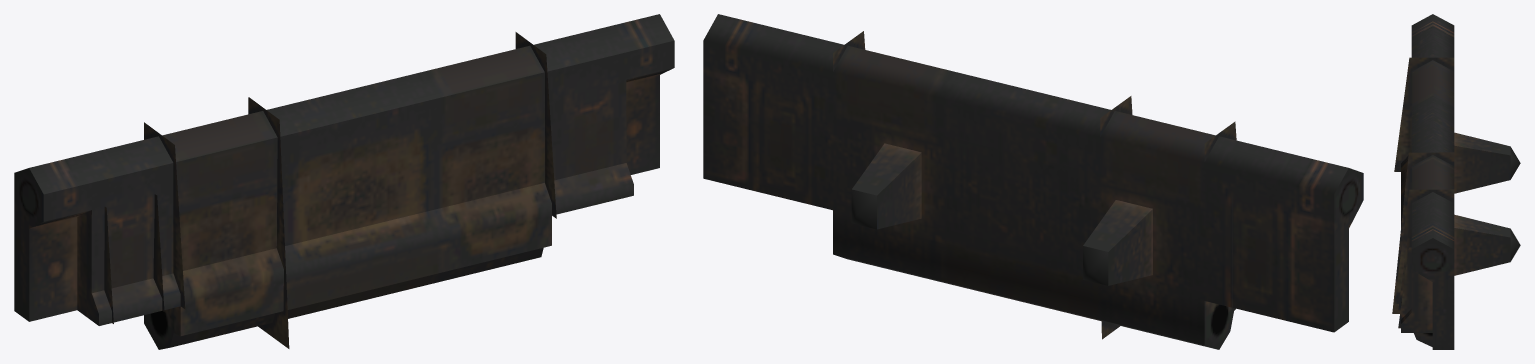
The picture shows the model from 3 angles, left to right: view 1: azimuth 30°, elevation 25°; view 2: azimuth 150°, elevation 25°; view 3: azimuth 270°, elevation 25°; orthographic projection. The views are drawn at different scales.
Visible parts, largest first — view 1: set_0_group_0; view 2: set_0_group_0; view 3: set_0_group_0.
Boxes of the visible parts, x1,y1,x2,y2 form: set_0_group_0: (14,14,674,349); set_0_group_0: (703,14,1363,349); set_0_group_0: (1392,14,1520,349).
Bounding box in the file's own units: 0.5997 × 0.201 × 0.1453.
1 material, 1 textured.
